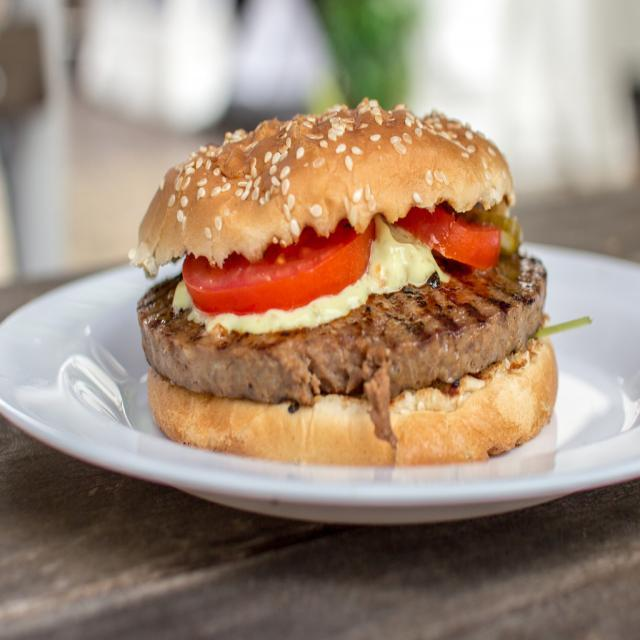Sandwich: (131, 99, 573, 469)
